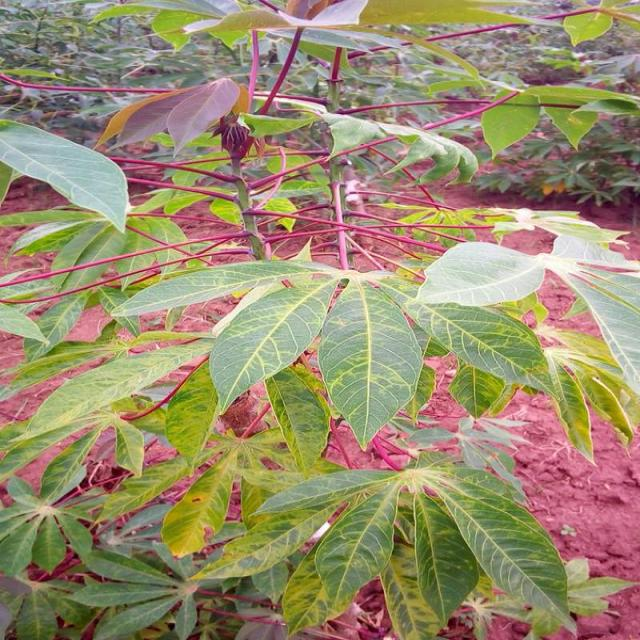cassava leaf: (2, 1, 639, 638), (209, 272, 340, 416), (318, 276, 424, 451), (1, 117, 130, 235)
